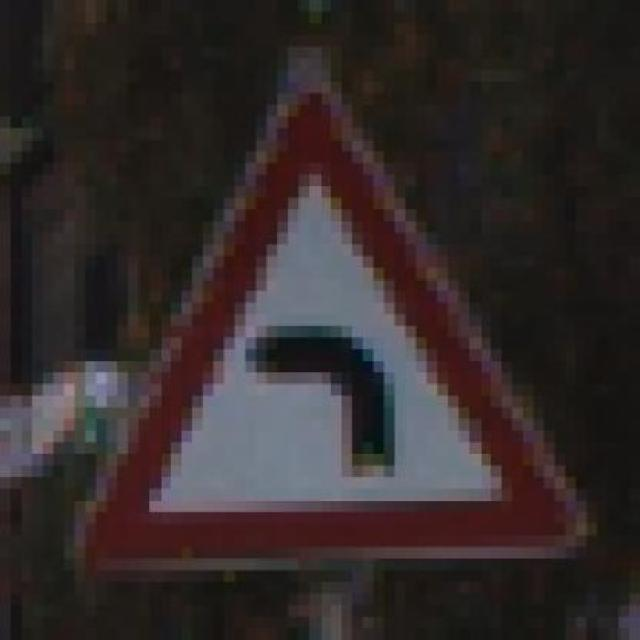Dangerous Left Curve Ahead: (75, 82, 598, 570)
